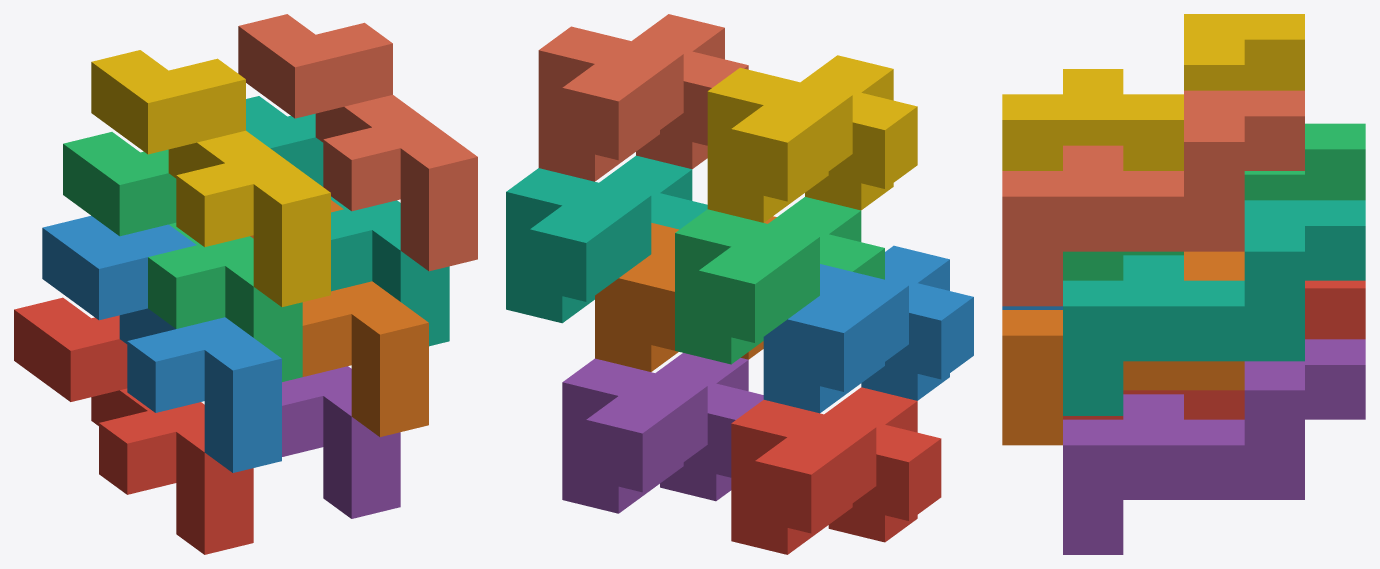
Rendered from tiling.obj.
3 views of the same model, side by side, from view 1: azimuth 30°, elevation 25°; view 2: azimuth 150°, elevation 25°; view 3: azimuth 270°, elevation 25° (orthographic). The views are drawn at different scales.
Visible parts, largest first — view 1: copy_1_domain_4, copy_1_domain_8, copy_1_domain_2, copy_1_domain_1, copy_1_domain_3, copy_1_domain_6, copy_1_domain_7, copy_1_domain_5; view 2: copy_1_domain_1, copy_1_domain_4, copy_1_domain_8, copy_1_domain_5, copy_1_domain_2, copy_1_domain_3, copy_1_domain_7, copy_1_domain_6; view 3: copy_1_domain_7, copy_1_domain_8, copy_1_domain_5, copy_1_domain_4, copy_1_domain_6, copy_1_domain_3, copy_1_domain_1.
Part boxes in pixels (x1,y1,x2,y2): copy_1_domain_4: [91, 50, 330, 306]; copy_1_domain_8: [238, 14, 477, 271]; copy_1_domain_2: [42, 215, 281, 472]; copy_1_domain_1: [14, 297, 253, 554]; copy_1_domain_3: [63, 132, 302, 381]; copy_1_domain_6: [250, 200, 428, 436]; copy_1_domain_7: [246, 96, 449, 346]; copy_1_domain_5: [282, 366, 400, 518]; copy_1_domain_1: [731, 387, 941, 554]; copy_1_domain_4: [707, 55, 917, 222]; copy_1_domain_8: [538, 14, 748, 181]; copy_1_domain_5: [562, 353, 763, 513]; copy_1_domain_2: [763, 245, 973, 413]; copy_1_domain_3: [675, 197, 884, 364]; copy_1_domain_7: [506, 155, 707, 323]; copy_1_domain_6: [595, 216, 776, 371]; copy_1_domain_7: [1063, 200, 1365, 415]; copy_1_domain_8: [1002, 90, 1304, 306]; copy_1_domain_5: [1063, 339, 1365, 554]; copy_1_domain_4: [1002, 14, 1304, 170]; copy_1_domain_6: [1002, 251, 1244, 445]; copy_1_domain_3: [1063, 123, 1365, 280]; copy_1_domain_1: [1063, 280, 1365, 419].
Bounding box in the file's own units: 6 × 8 × 6.
